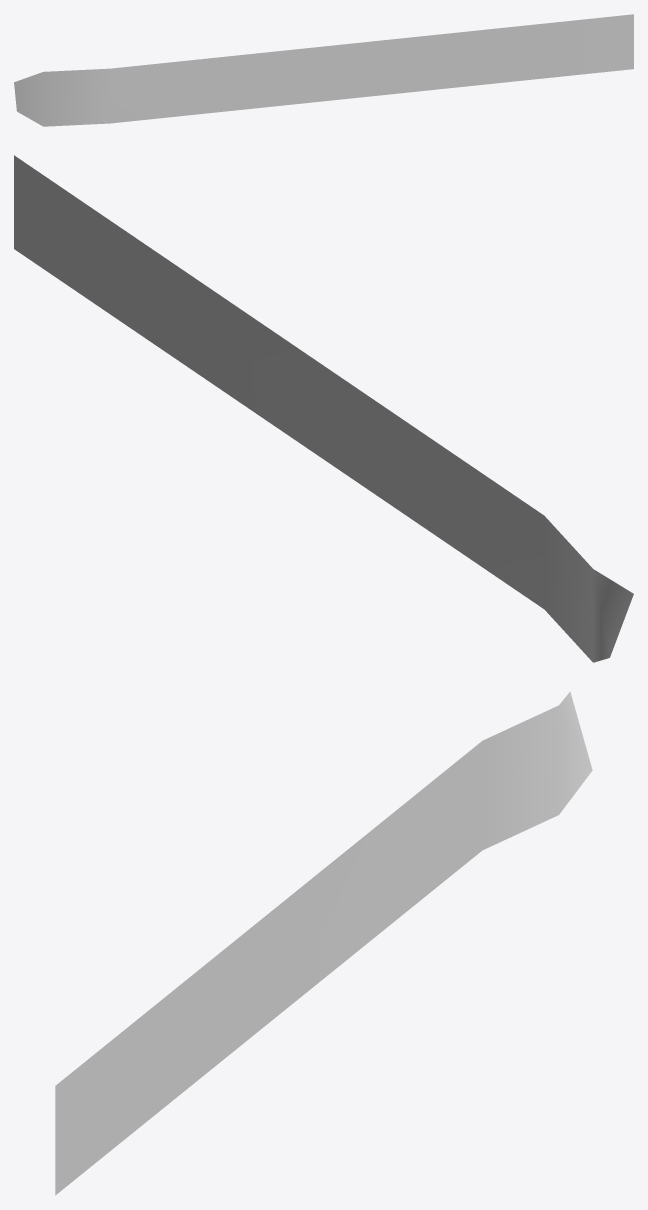
Rendered from SM_Mustacci.fbx.
3 renders of one model, top to bottom at view 1: azimuth 30°, elevation 25°; view 2: azimuth 150°, elevation 25°; view 3: azimuth 270°, elevation 25°, orthographic. The views are drawn at different scales.
Parts seen in each view (by area): view 1: polySurface1; view 2: polySurface1; view 3: polySurface1.
Part boxes in pixels (x1,y1,x2,y2): polySurface1: (14, 14, 633, 126); polySurface1: (14, 155, 633, 662); polySurface1: (55, 691, 592, 1195).
Size of the model in its own units: 3.9 by 0.6924 by 1.85.
Materials: 1 (1 with a texture image).
